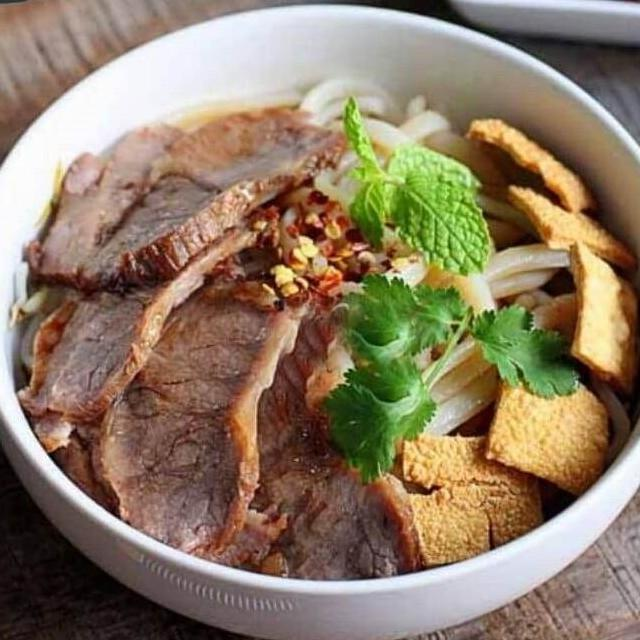banh da: (50, 389, 200, 532), (119, 464, 272, 588), (238, 543, 410, 628), (434, 450, 543, 580), (371, 485, 474, 617)
mi: (164, 289, 591, 555)
mi quang: (0, 52, 640, 640)
thit heo: (56, 105, 390, 314), (342, 49, 558, 348), (169, 39, 443, 268), (40, 214, 348, 353), (20, 272, 192, 412)
